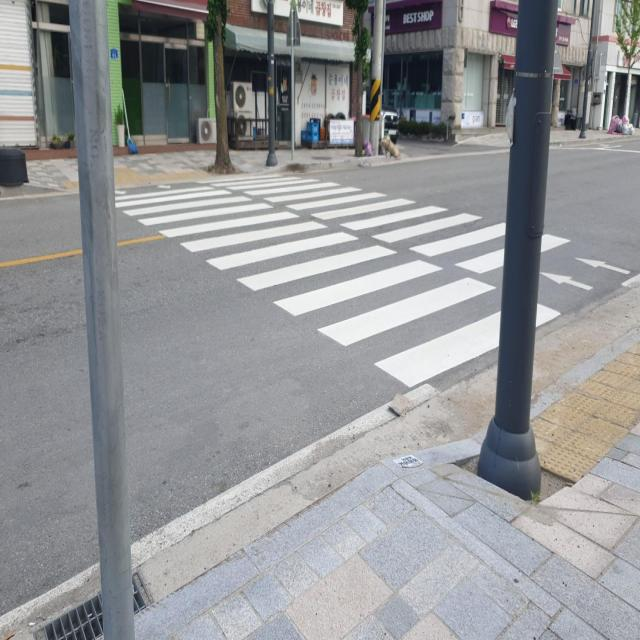횡단보도: (115, 173, 631, 389)
